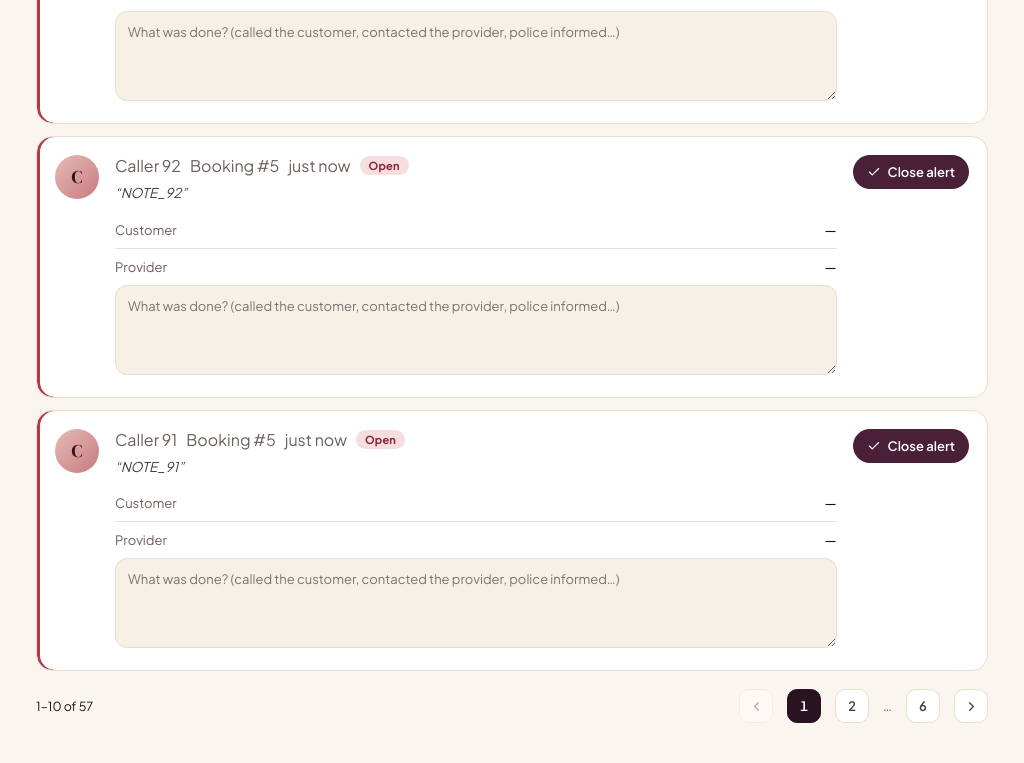
Test: <Safety> (SOS) - server paging, search and the oldest open alert › an answer for a page or search the user already left is dropped, never shown under the new one
This screenshot has width=1024, height=763.
(page scrolled)
Click the button named "Page 2" at x=852, y=706, box [835, 690, 869, 724]
(page scrolled)
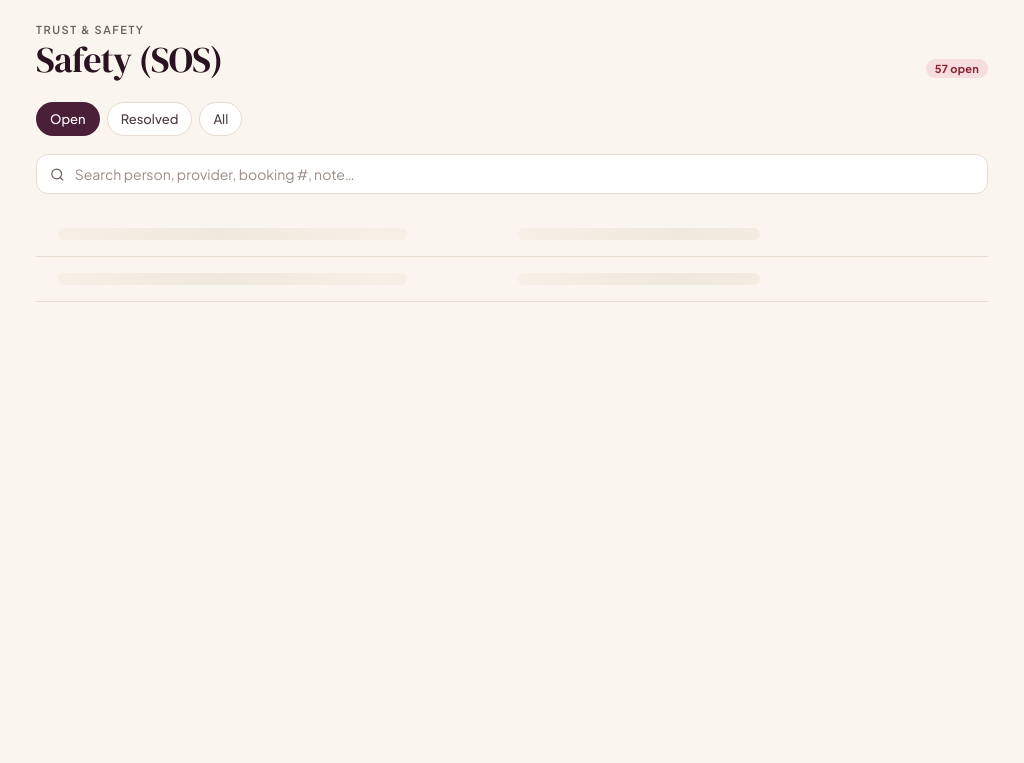
Type "search" into the field with placeholder "Search person, provider, booking #, note…" at x=523, y=174, box [73, 164, 974, 184]
Wait 400 ms
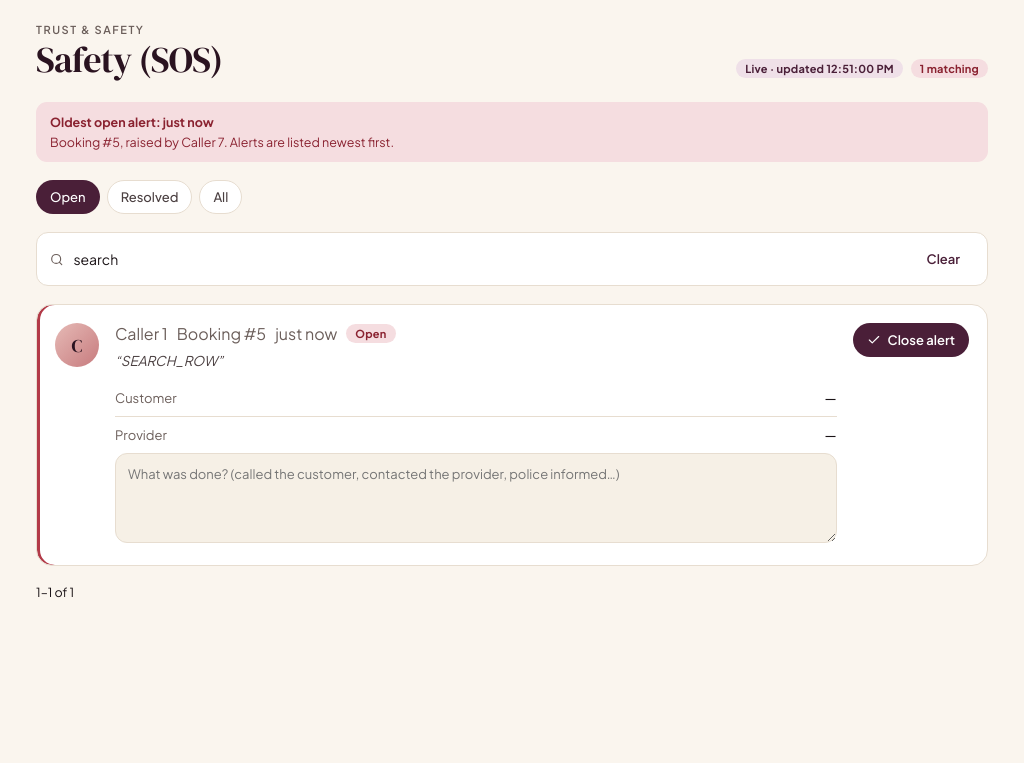
Check: the text "“SEARCH_ROW”" is shown, box [115, 352, 223, 369]
Check: the text "1 matching" is shown, box [911, 59, 988, 78]
